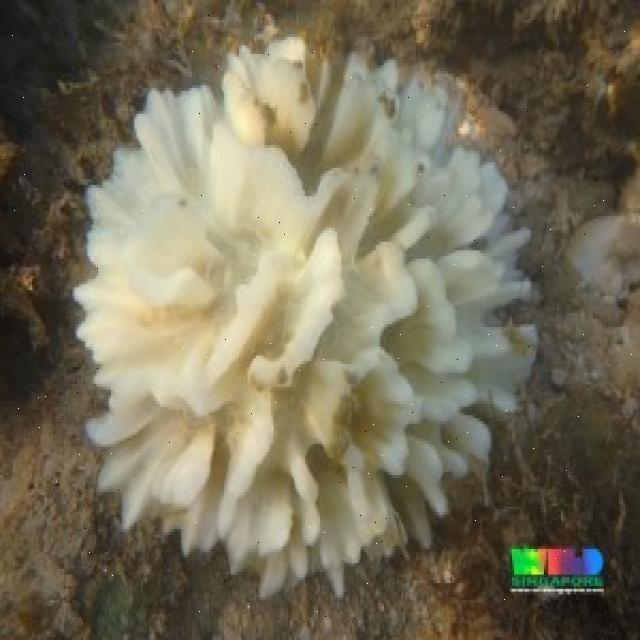Bleached: (77, 38, 540, 601)
